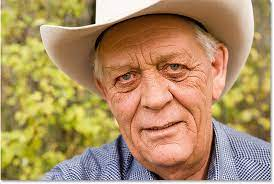puffy eyes: (165, 71, 196, 83), (114, 82, 141, 94)
wrinkles: (108, 29, 187, 49), (127, 119, 139, 158), (193, 107, 206, 141)
